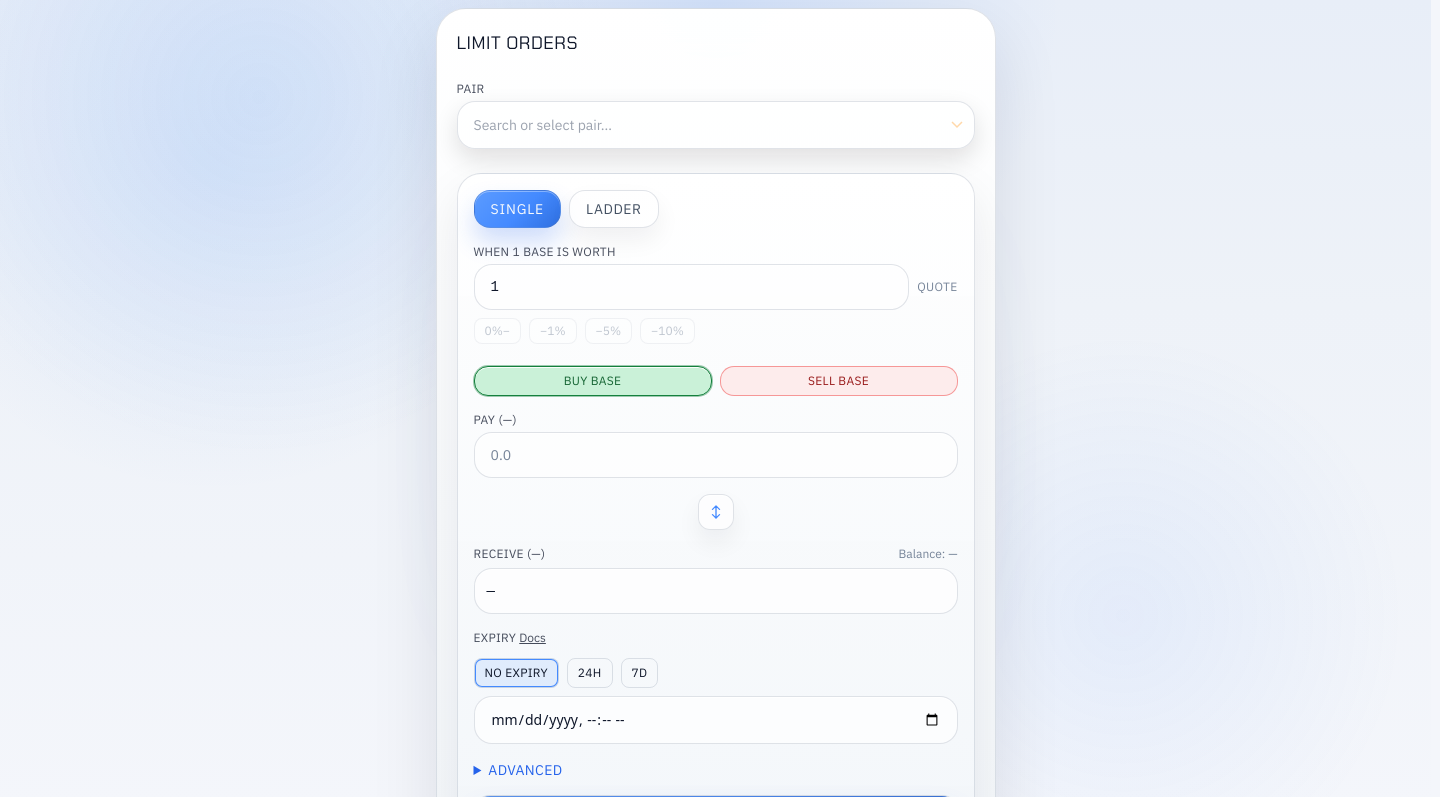
Test case: LimitOrdersPage › shows pre-submit summary with chain label before place (GitLab #461)
Click the dropdown named "Trading pair" at (716, 125), box [456,101,974,149]
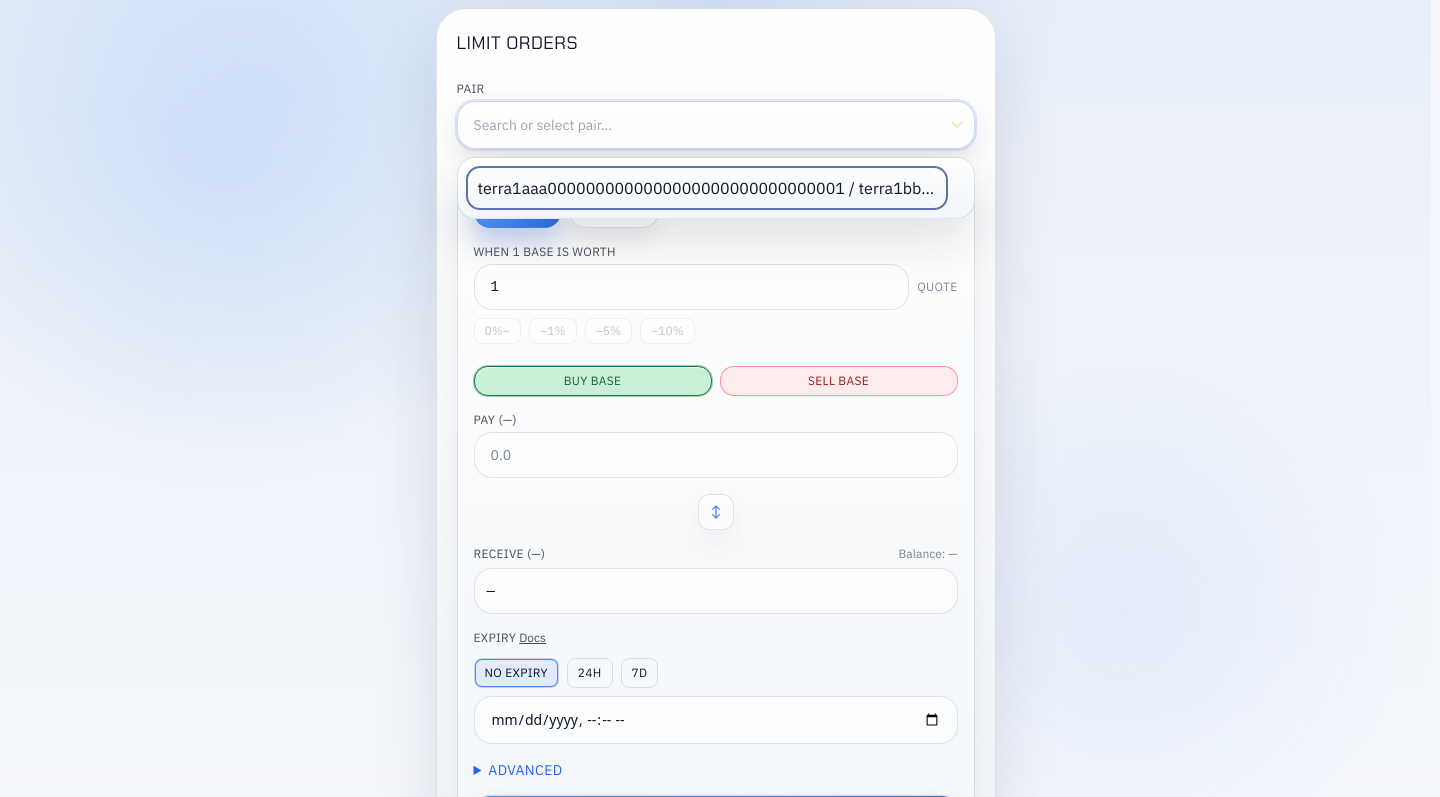
Click the option at (706, 188), box [466,166,948,210]
(page scrolled)
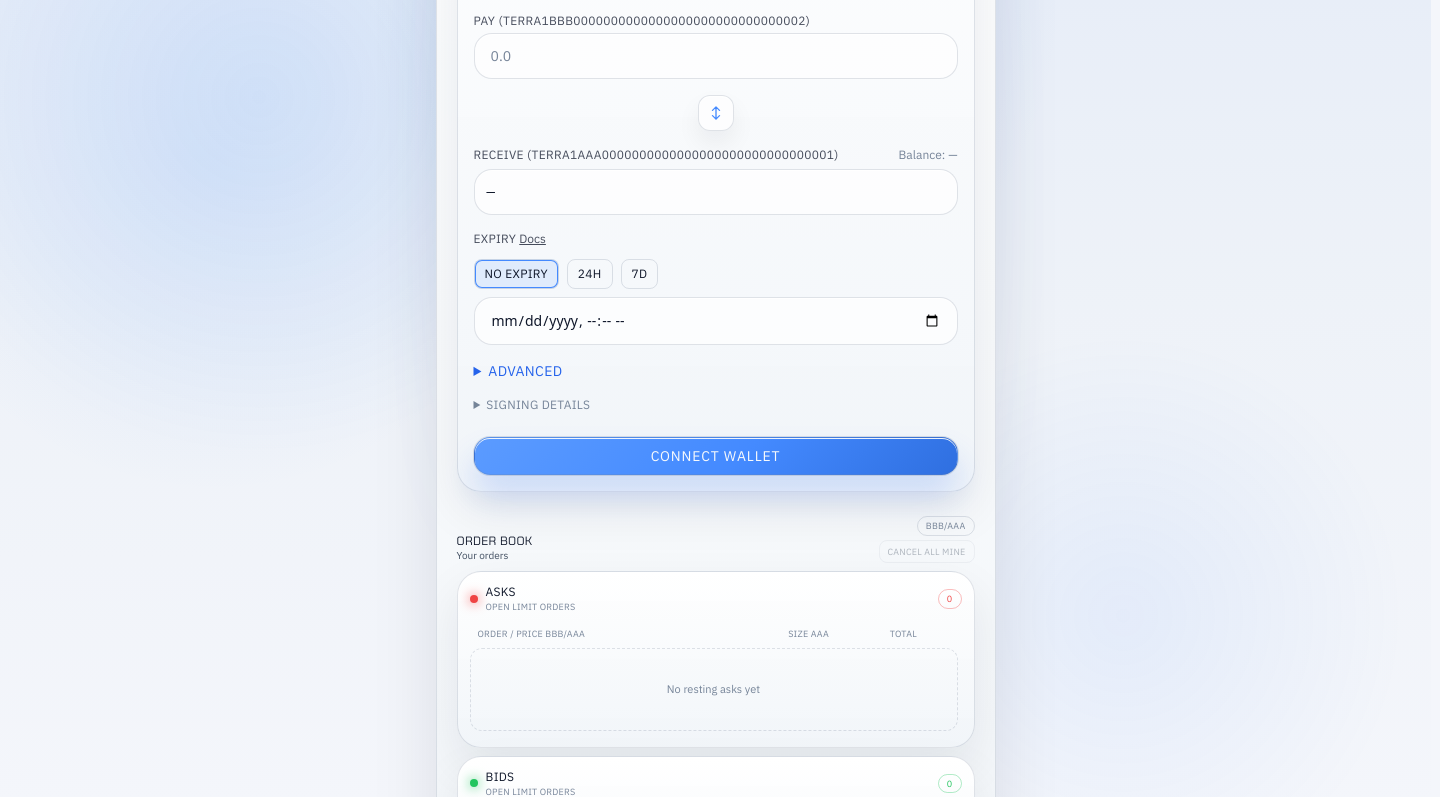
Result: the element with test id "limits-pre-submit-details" is shown
Click the heading "Signing details" at (538, 404), box [486,397,590,412]
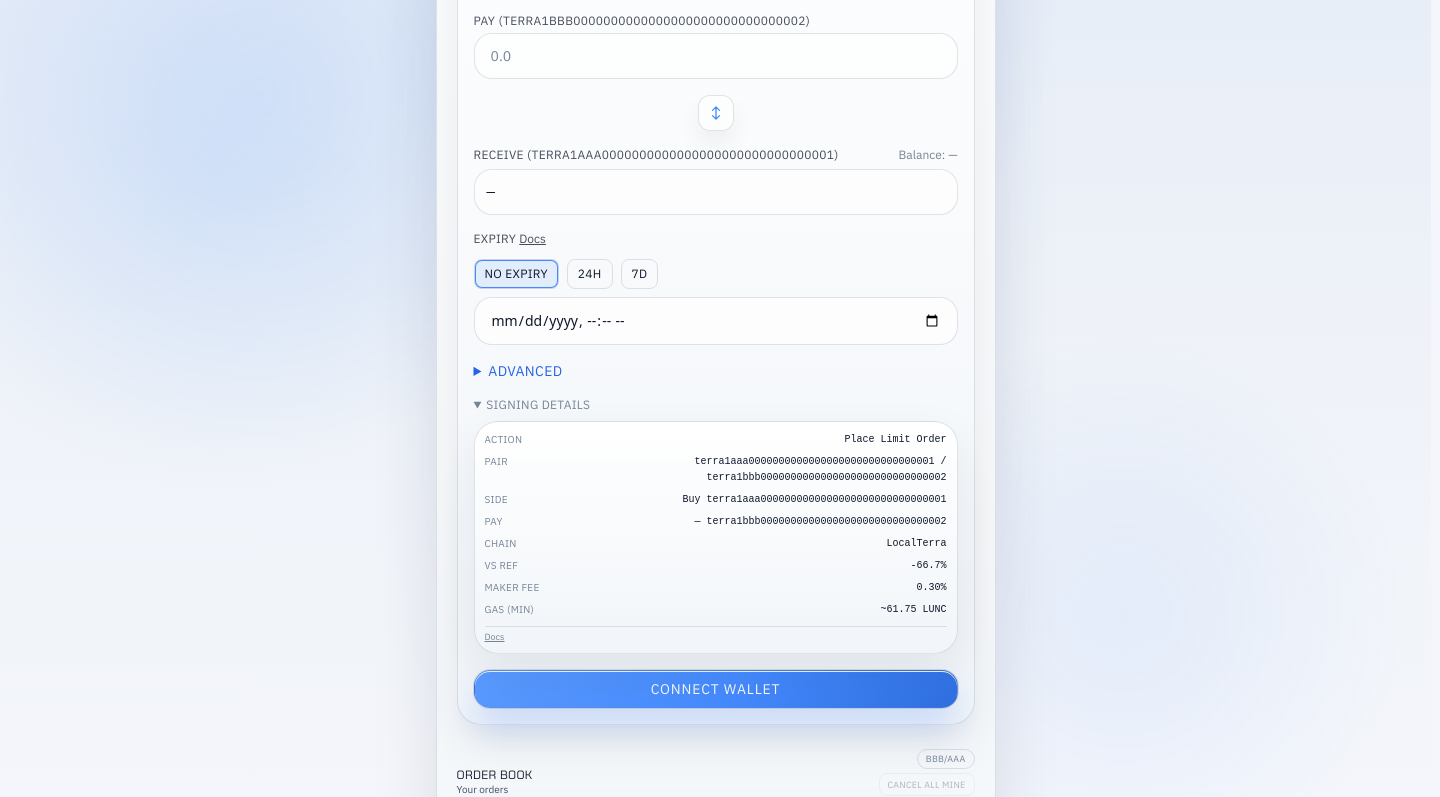
Result: the element with test id "limits-page-pre-submit-summary" shows "Action" at [484,433,522,446]
Result: the element with test id "limits-page-pre-submit-summary" shows "Pay" at [484,515,503,528]
Result: the element with test id "limits-page-pre-submit-summary-action" shows "Place Limit Order" at [844,434,946,445]
